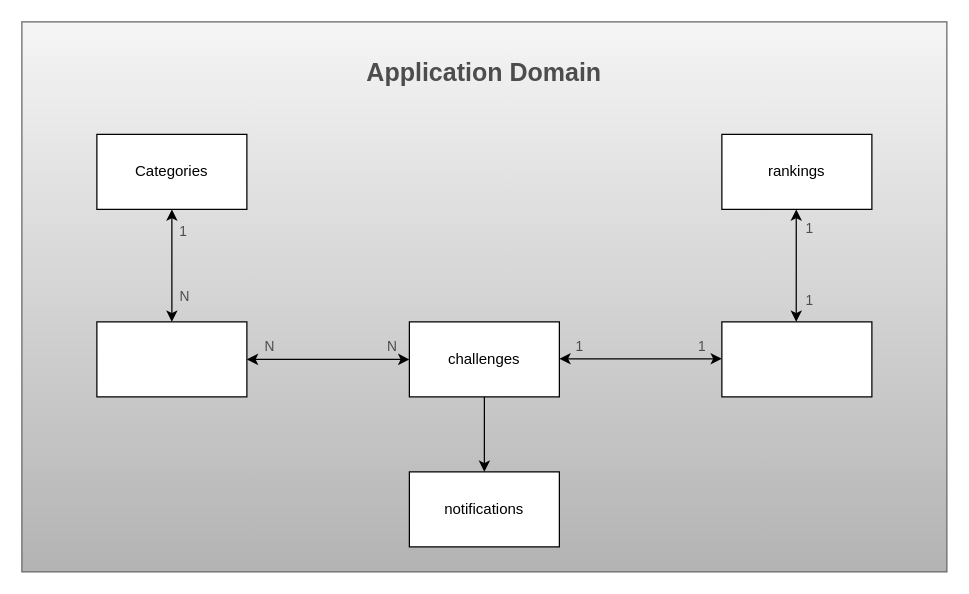
The diagram is 969 pixels wide and 594 high, and some of its shapes have lost their labels. Each missing label, with the centre of its shape:
"matches" belongs at [796,359].
"players" belongs at [171,359].
